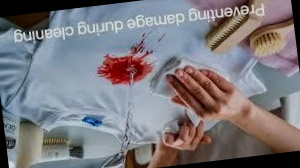blood: (96, 50, 154, 87)
